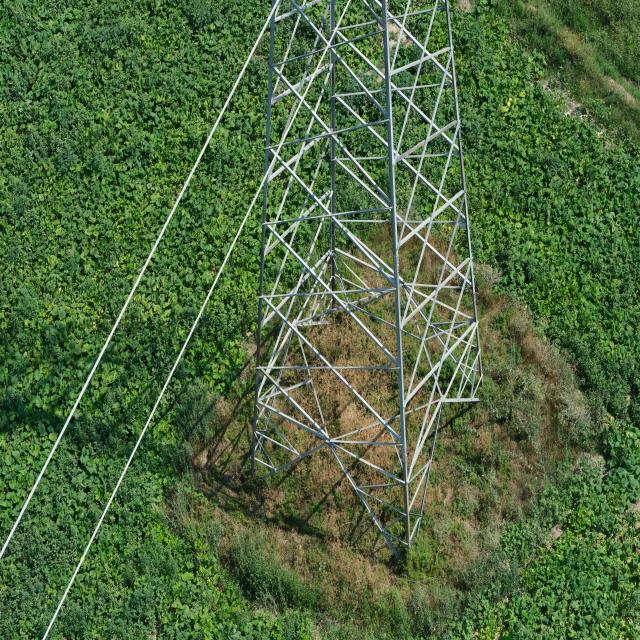direk: (240, 7, 487, 560)
